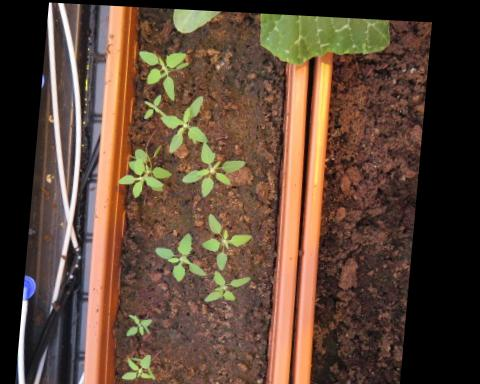weed: (131, 310, 162, 336)
